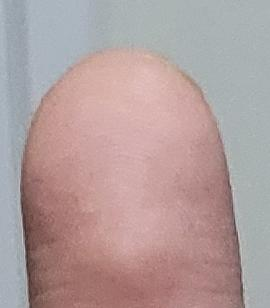Fingerprints: (21, 49, 246, 307)
